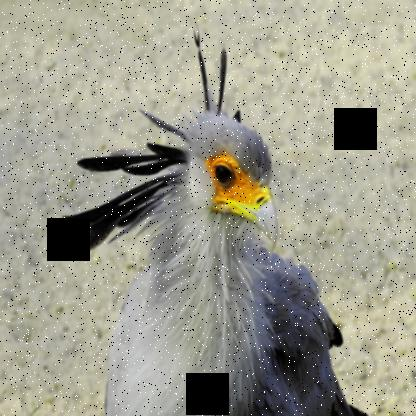Sagittarius serpentarius: (62, 19, 373, 416)
